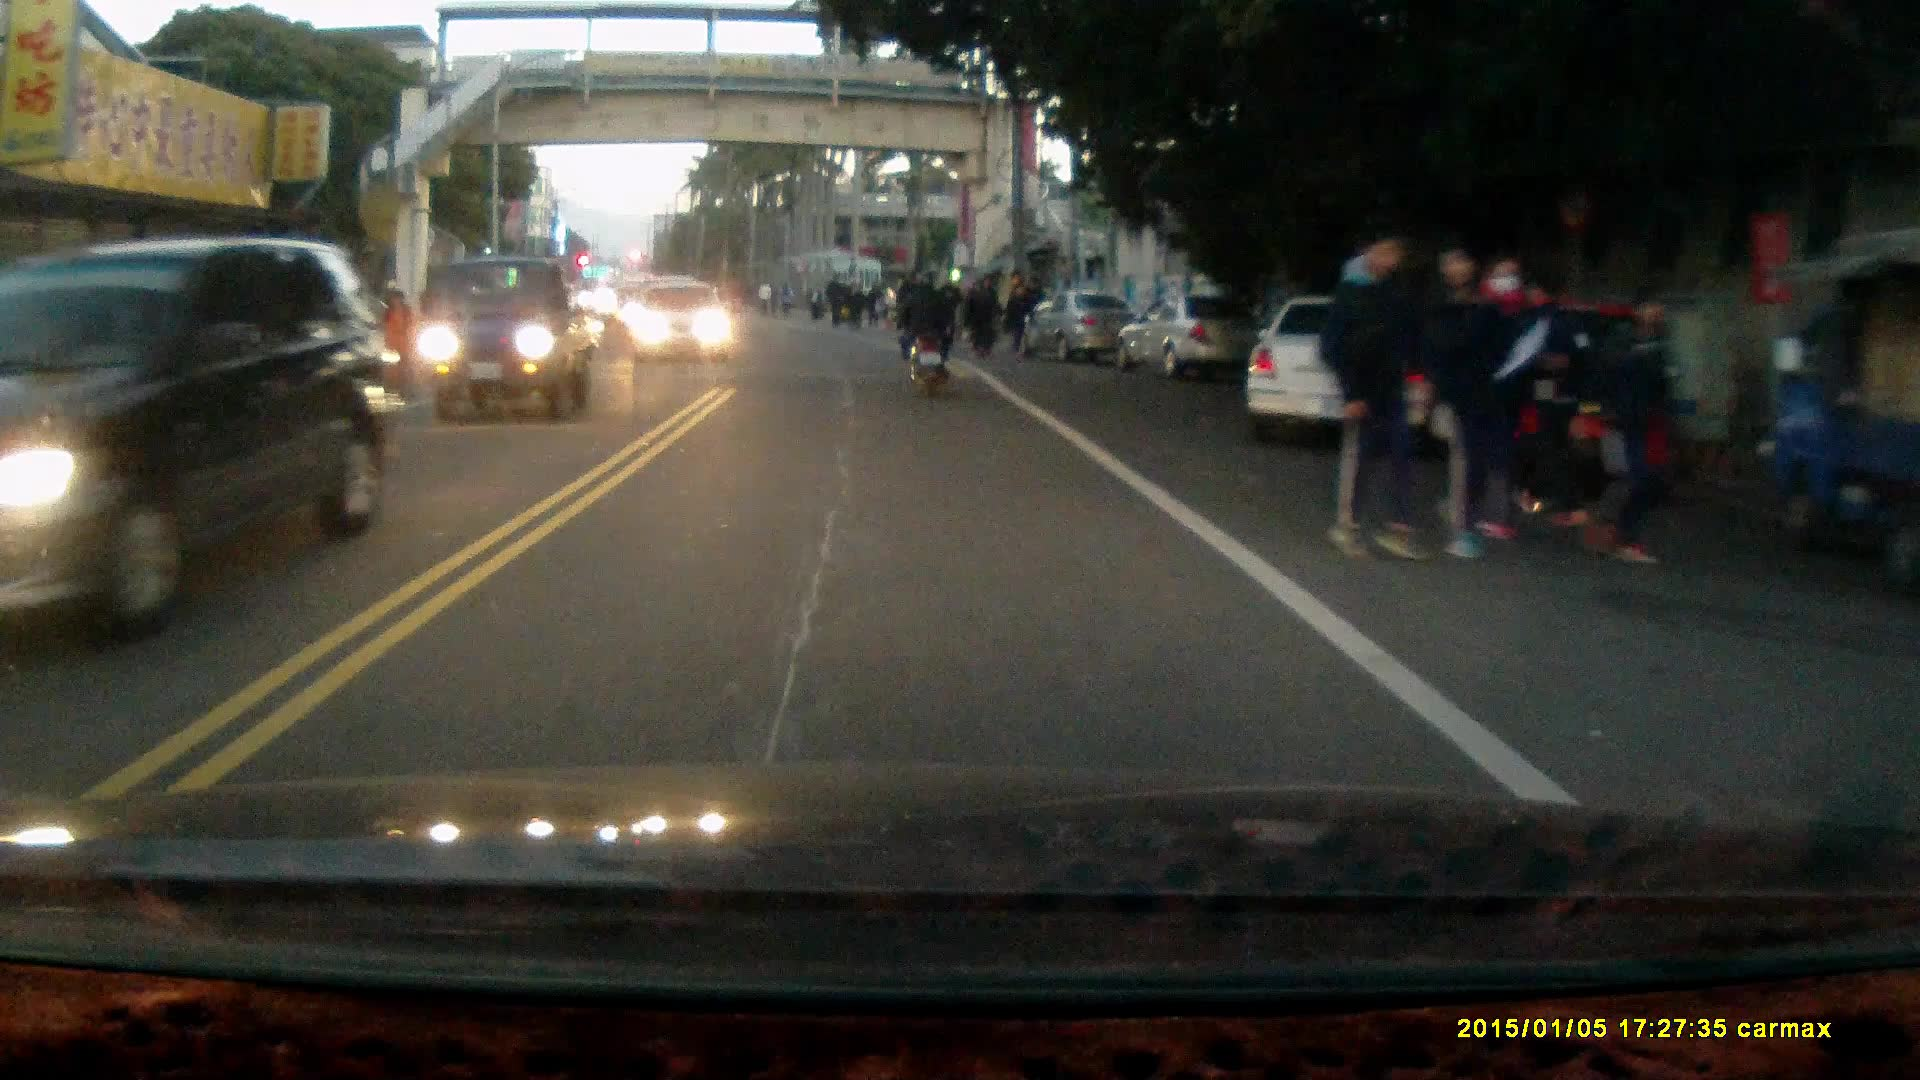pedestrian: (1314, 218, 1435, 568), (1426, 240, 1554, 564), (1489, 271, 1594, 534), (1587, 282, 1677, 568), (1461, 253, 1548, 543), (972, 264, 1001, 350), (964, 276, 990, 358), (1002, 280, 1030, 352)
rider: (887, 265, 953, 396)
vehicle: (1, 238, 415, 619), (1244, 287, 1462, 442), (424, 259, 601, 423), (1122, 288, 1255, 381), (1020, 290, 1145, 363), (633, 282, 733, 362)
